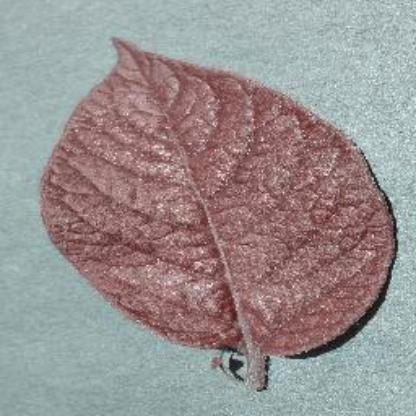Healthy-plant: (36, 33, 396, 389)
